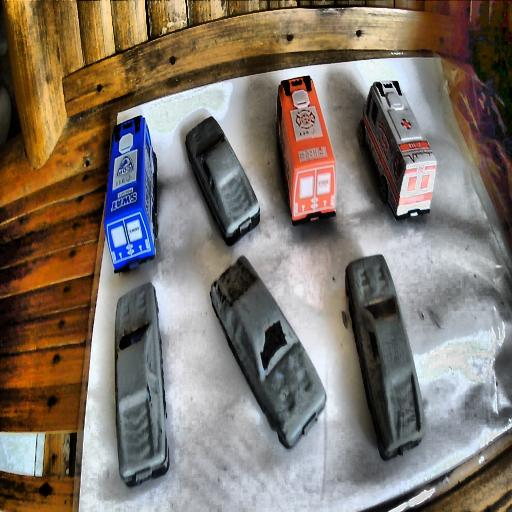ambulance: (359, 79, 436, 220)
fire_truck: (275, 76, 337, 225)
normal_car: (214, 256, 326, 448), (345, 256, 427, 458), (114, 282, 170, 488), (186, 116, 260, 247)
police car: (104, 115, 158, 274)
